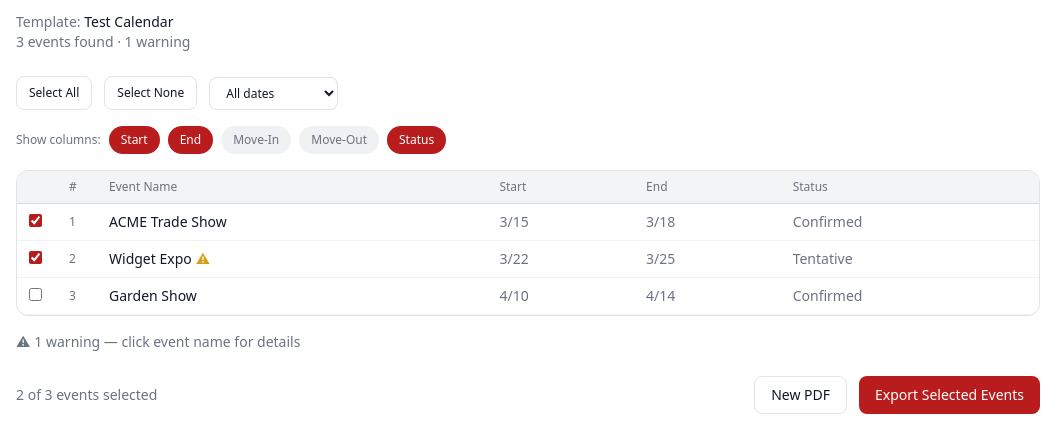
Scenario: ResultsPage › toggles column visibility when pill is clicked
Expected: the column heading "Start" is shown, [488,171,634,204]
Click the Start pill to hide it
Click the button "Start".
click(134, 140)  # box [109,126,160,154]
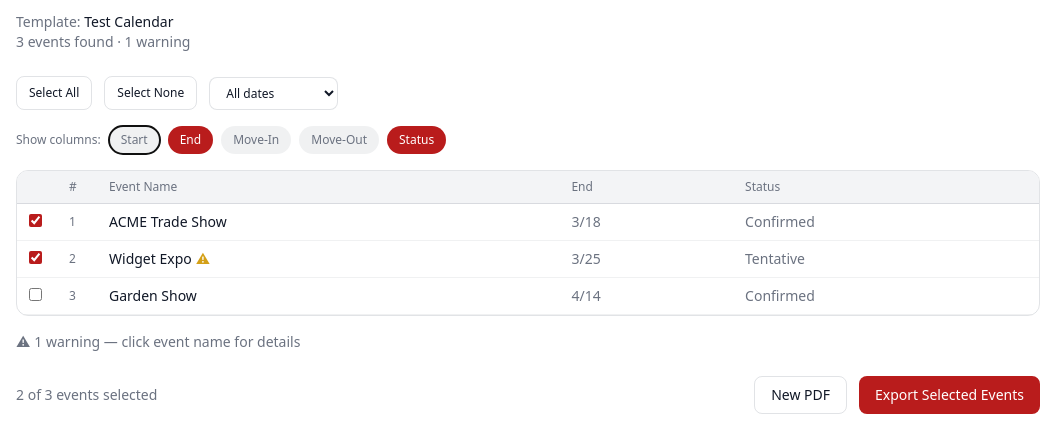
Click again to show it
Click the button "Start".
click(134, 140)  # box [109,126,160,154]
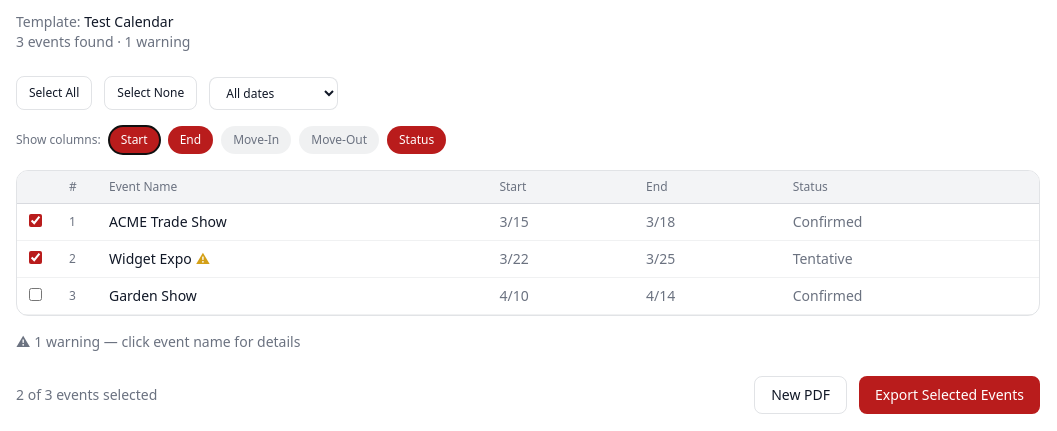
Expected: the column heading "Start" is shown, [488,171,634,204]
